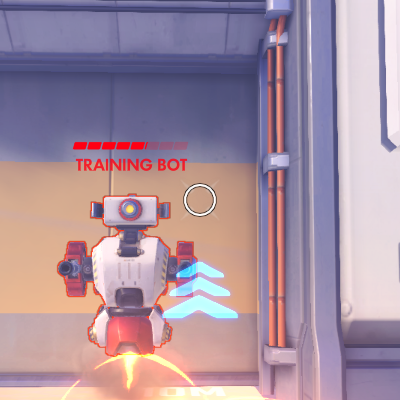hpbar: (73, 141, 188, 150)
